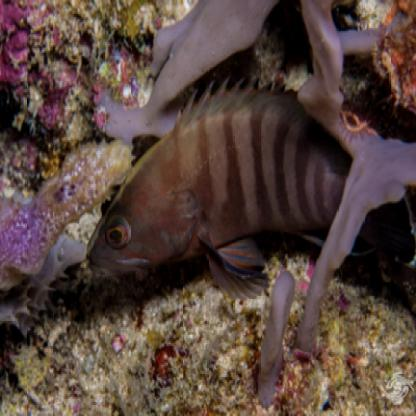grouper: (82, 75, 384, 293)
